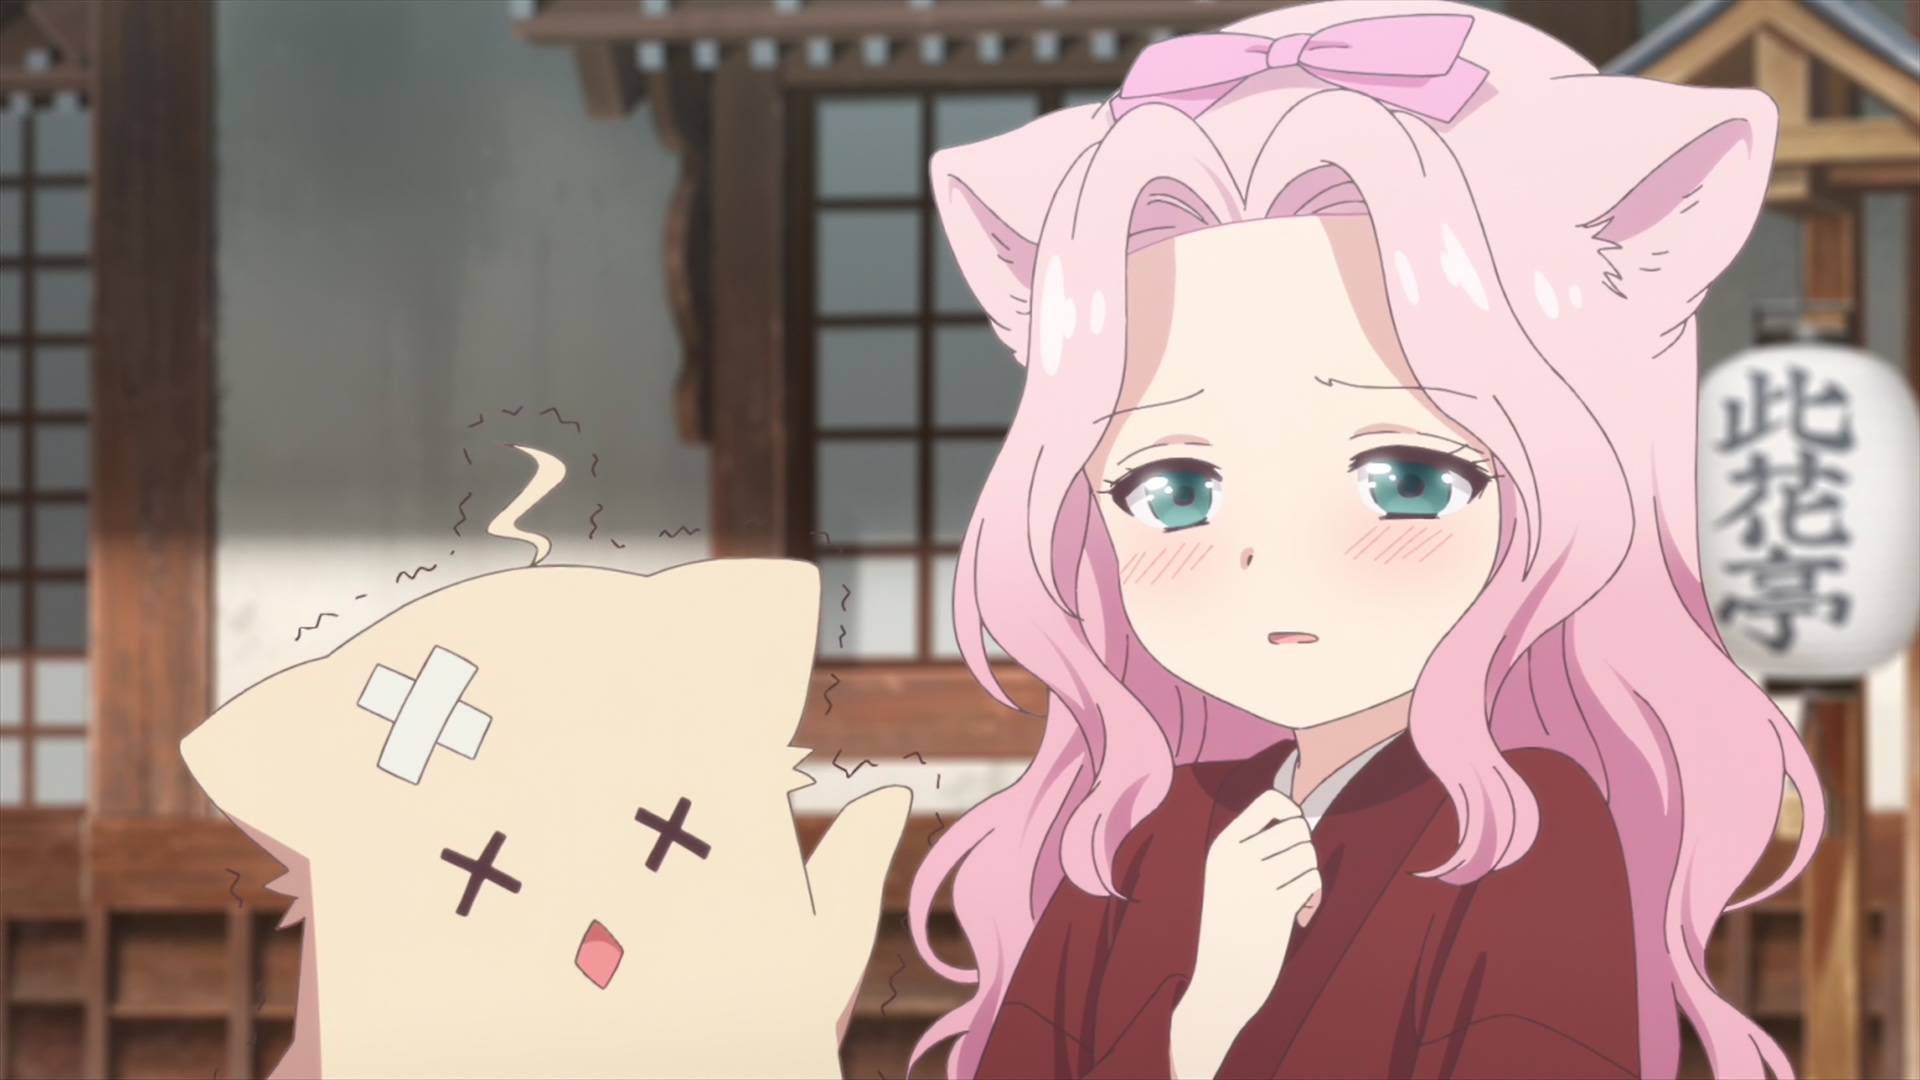柚: (179, 443, 915, 1080)
莲: (907, 1, 1826, 1080)
